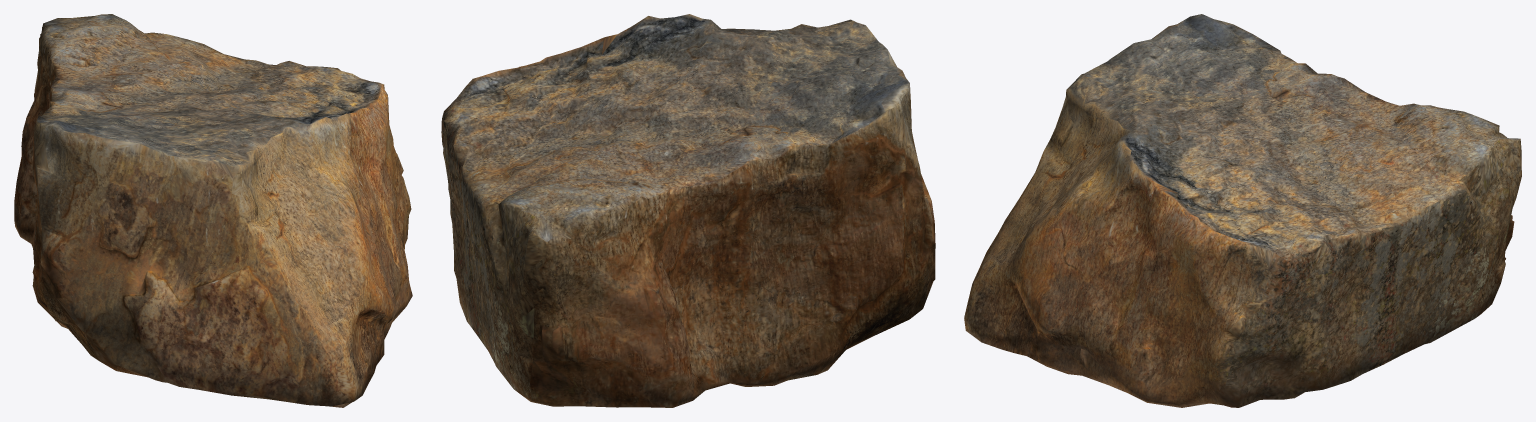
File: nama_boulder_03.glb
3 views of the same model, side by side, from view 1: azimuth 30°, elevation 25°; view 2: azimuth 150°, elevation 25°; view 3: azimuth 270°, elevation 25° (orthographic). The views are drawn at different scales.
Visible parts, largest first — view 1: nama_boulder_03; view 2: nama_boulder_03; view 3: nama_boulder_03.
Part boxes in pixels (box(x1,y1,x2,y2)): nama_boulder_03: box(14, 14, 412, 407); nama_boulder_03: box(441, 14, 935, 407); nama_boulder_03: box(964, 14, 1521, 407).
Size of the model in its own units: 2.34 by 1.43 by 2.98.
Materials: 1 (1 with a texture image).
